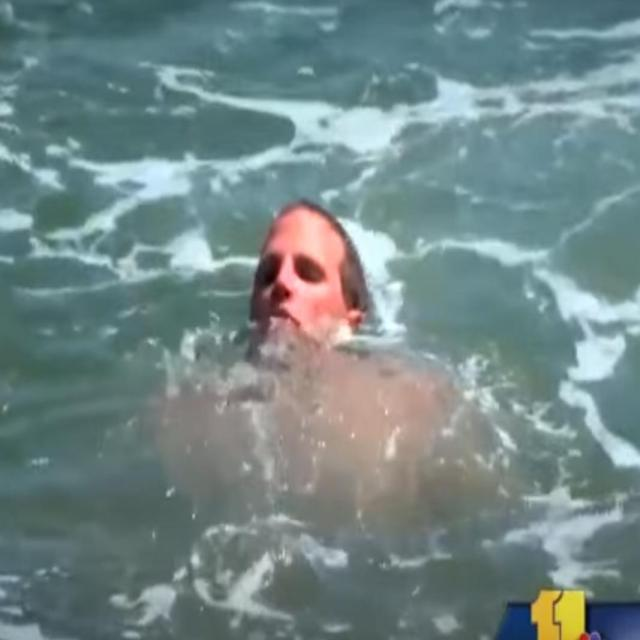Out of Water: (240, 184, 379, 378)
